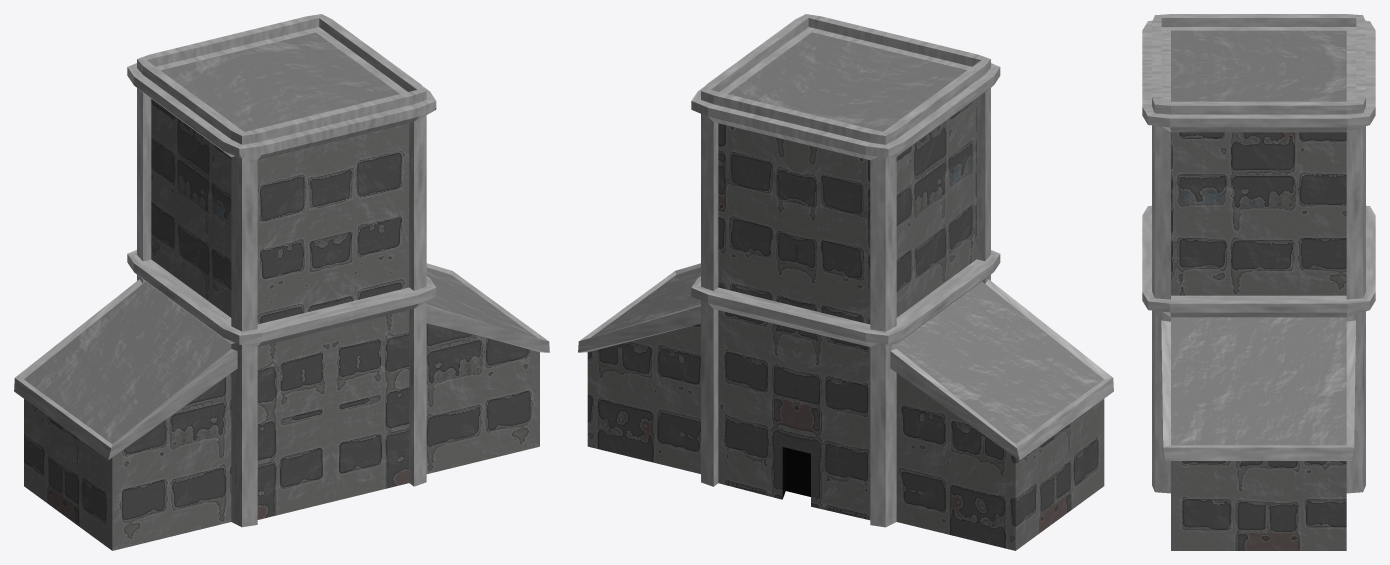
File: WorkCo.glb
The picture shows the model from 3 angles, left to right: view 1: azimuth 30°, elevation 25°; view 2: azimuth 150°, elevation 25°; view 3: azimuth 270°, elevation 25°; orthographic projection.
Visible parts, largest first — view 1: WorkCo; view 2: WorkCo; view 3: WorkCo.
Part boxes in pixels (<box>): WorkCo: <box>14,14,549,550</box>; WorkCo: <box>578,14,1113,550</box>; WorkCo: <box>1142,14,1375,550</box>.
Size of the model in its own units: 25.98 by 22.05 by 12.
1 material, 1 textured.
